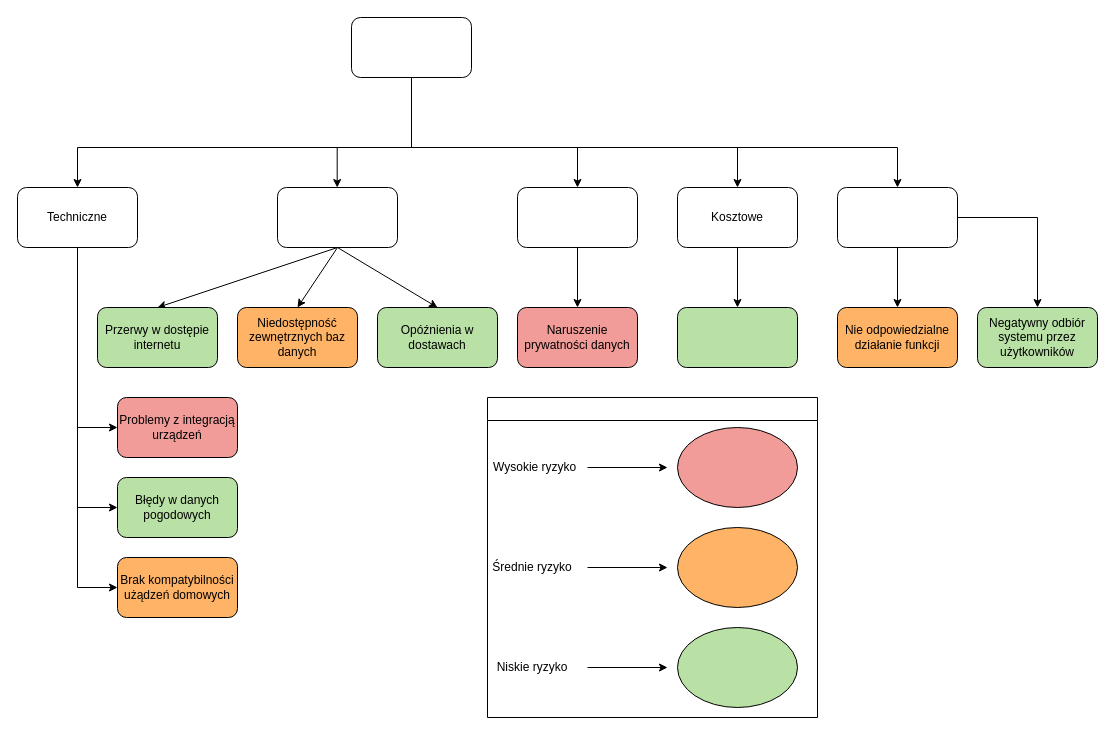
Some shapes in this 1115 by 735 pixel diagram are drawn without their labels. Each missing label, with the centre of its shape:
Bezpieczeństwo: the point at 577,217
Kategorie Ryzyk: the point at 411,47
Legenda: the point at 652,557
Operacyjne: the point at 337,217
Użytkowe: the point at 897,217
Wysokie koszty utrzymania: the point at 737,337
